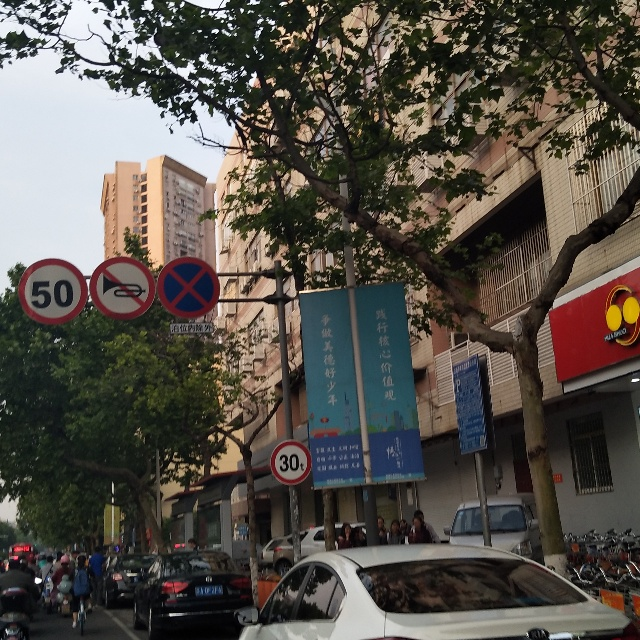nohonk: (90, 257, 156, 320)
stop: (158, 257, 220, 319)
